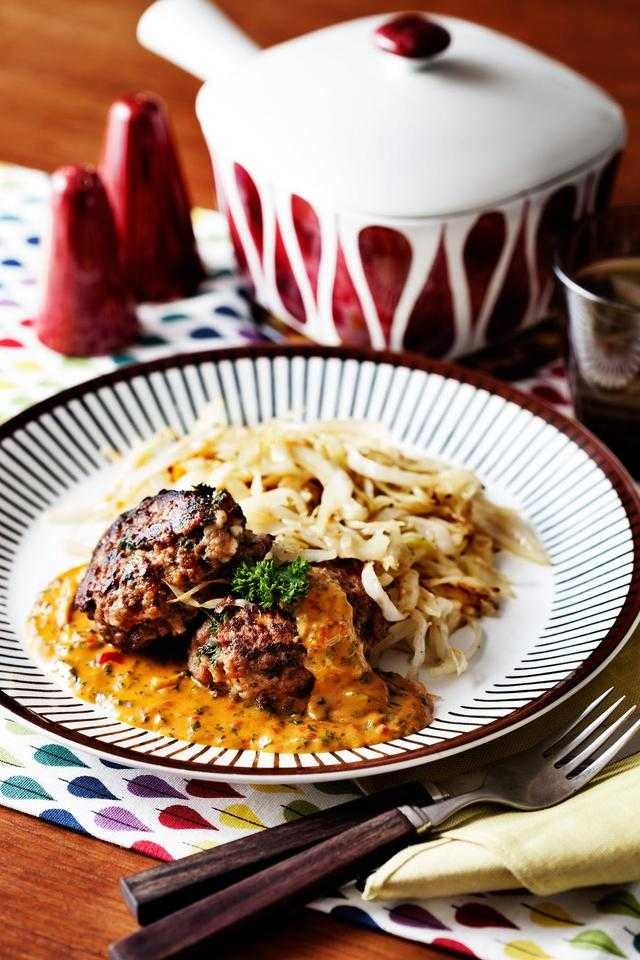soup: (51, 391, 508, 728)
